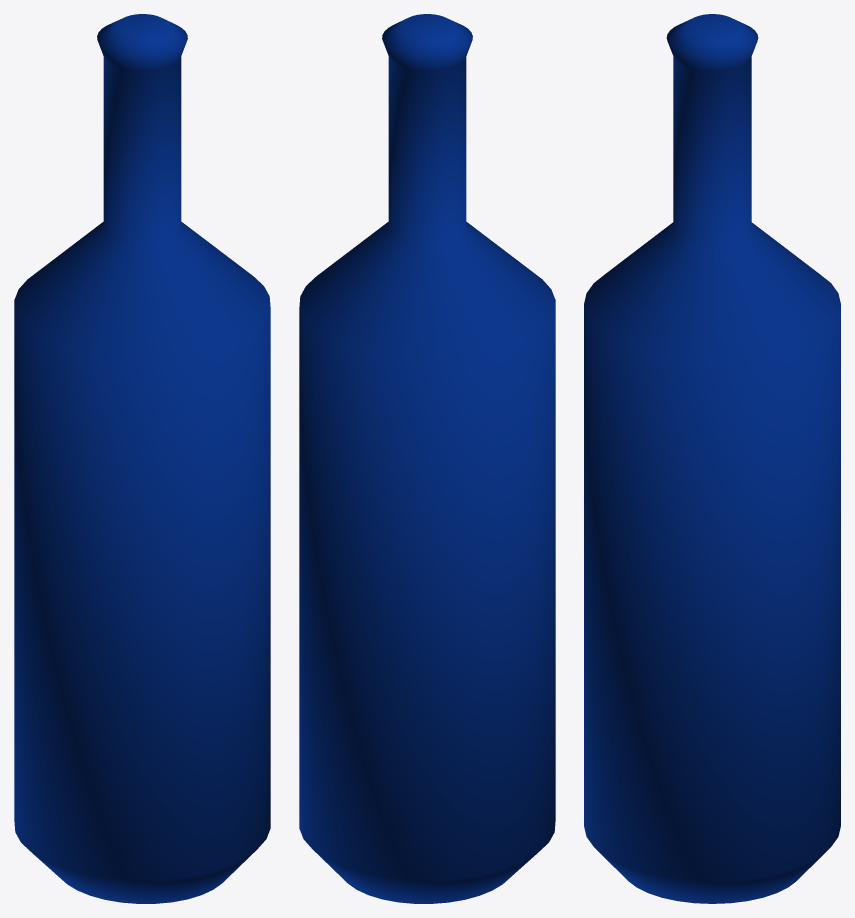
Rendered from Flasche1.fbx.
The picture shows the model from 3 angles, left to right: view 1: azimuth 30°, elevation 25°; view 2: azimuth 150°, elevation 25°; view 3: azimuth 270°, elevation 25°; orthographic projection.
Visible parts, largest first — view 1: pasted__Flasche; view 2: pasted__Flasche; view 3: pasted__Flasche.
Boxes of the visible parts, x1,y1,x2,y2 form: pasted__Flasche: [14, 14, 270, 903]; pasted__Flasche: [299, 14, 555, 903]; pasted__Flasche: [584, 14, 840, 903].
Bounding box in the file's own units: 0.0908 × 0.3286 × 0.0908.
